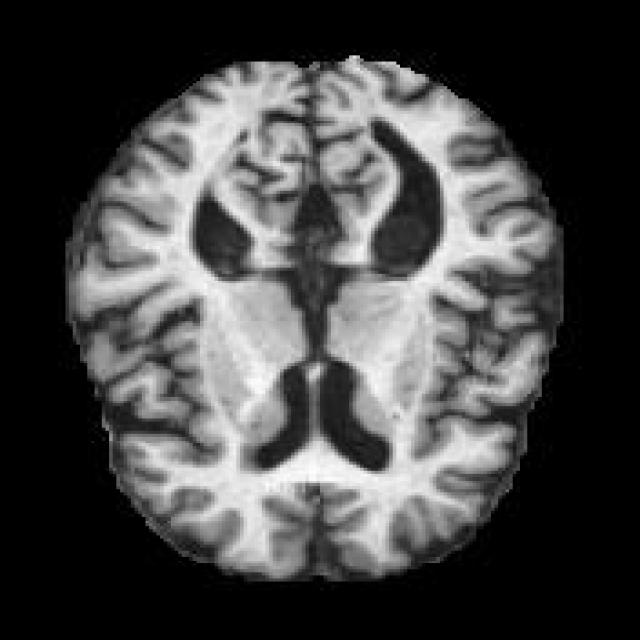Alzheimer: (61, 52, 564, 582)
